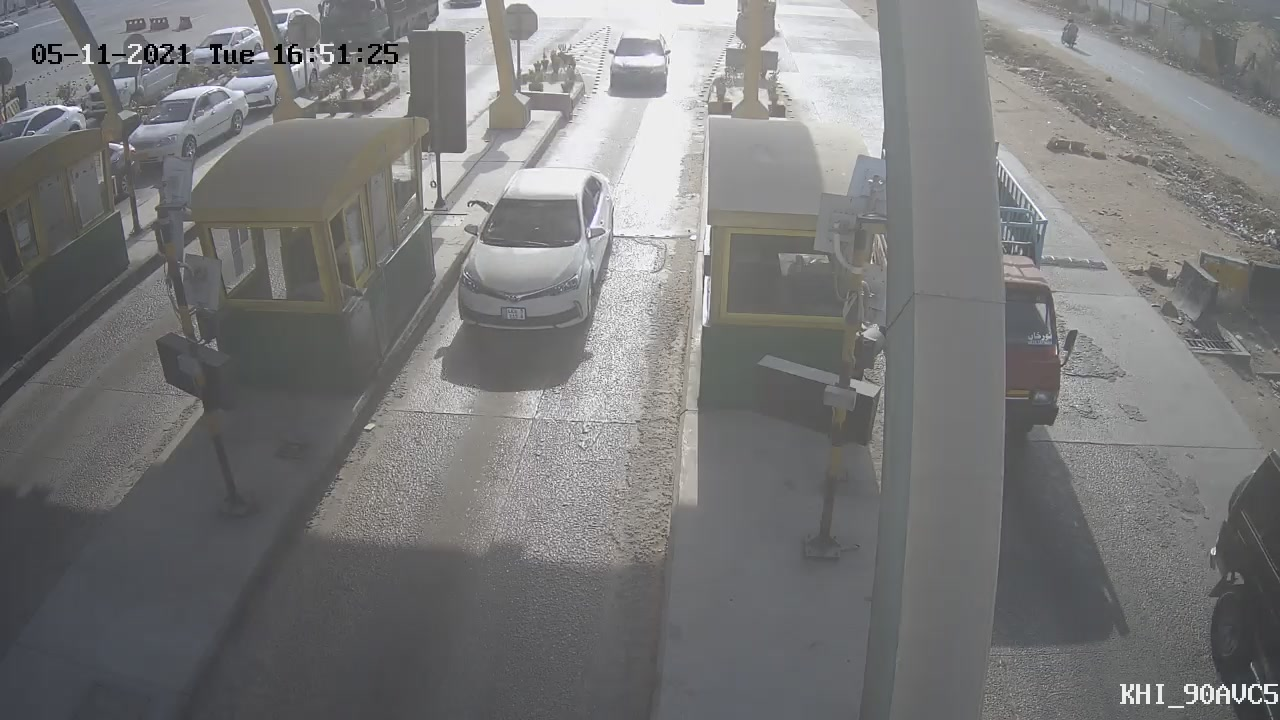F1: (440, 152, 633, 343)
